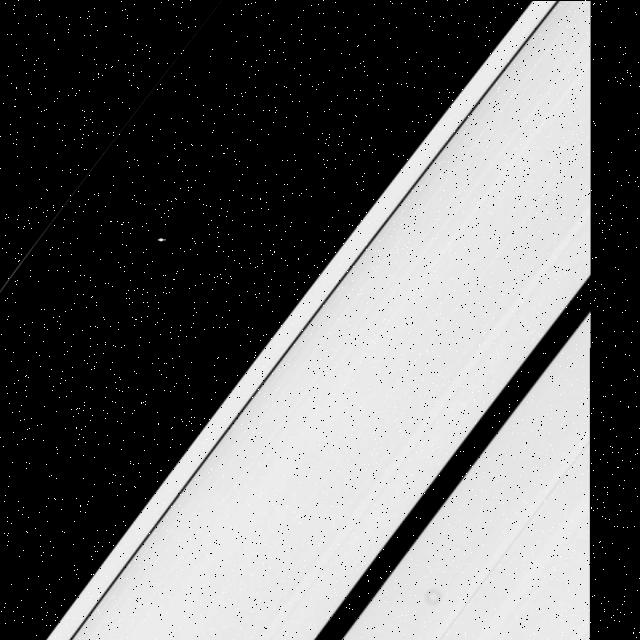Saturn: (6, 0, 588, 640)
